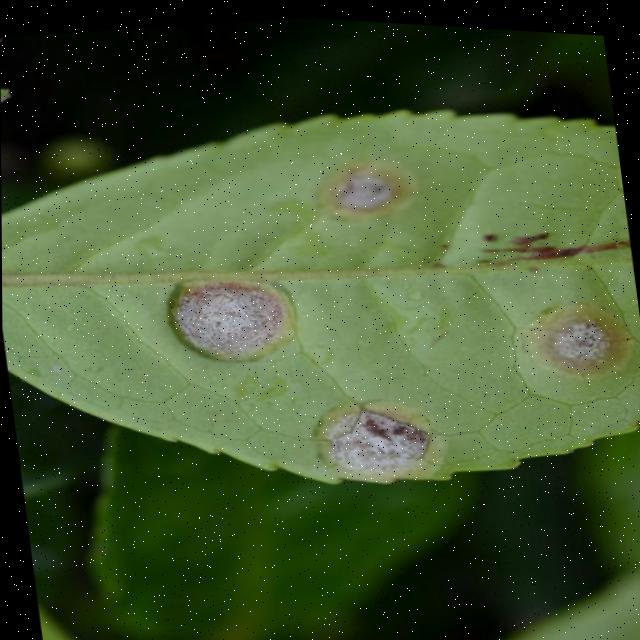Tea cake: (520, 287, 635, 383), (324, 393, 447, 479), (182, 277, 284, 367), (333, 147, 417, 220)
